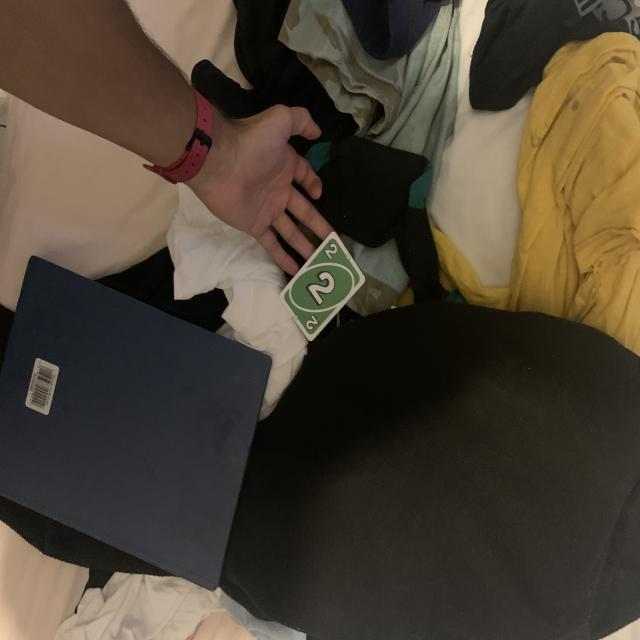lgreen-2: (322, 241, 339, 262)
